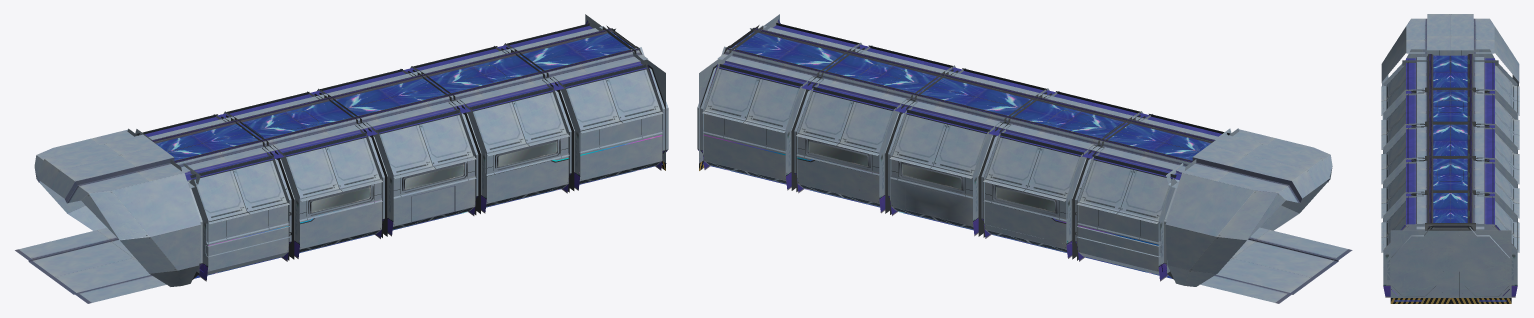
The model's file is plane_cabin__freefire.glb.
3 views of the same model, side by side, from view 1: azimuth 30°, elevation 25°; view 2: azimuth 150°, elevation 25°; view 3: azimuth 270°, elevation 25° (orthographic). The views are drawn at different scales.
Visible parts, largest first — view 1: PFB_Cabin_Winterlands_Ceiling_01_MAT_Cabin_Winterlands_01.00, PFB_Cabin_Winterlands_Ground_01_MAT_Cabin_Winterlands_01.001, PFB_Cabin_Winterlands_Glass_01; view 2: PFB_Cabin_Winterlands_Ceiling_01_MAT_Cabin_Winterlands_01.00, PFB_Cabin_Winterlands_Ground_01_MAT_Cabin_Winterlands_01.001, PFB_Cabin_Winterlands_Glass_01; view 3: PFB_Cabin_Winterlands_Ceiling_01_MAT_Cabin_Winterlands_01.00, PFB_Cabin_Winterlands_Ground_01_MAT_Cabin_Winterlands_01.001.
Boxes of the visible parts, x1,y1,x2,y2 form: PFB_Cabin_Winterlands_Ceiling_01_MAT_Cabin_Winterlands_01.00: (34, 14, 668, 286); PFB_Cabin_Winterlands_Ground_01_MAT_Cabin_Winterlands_01.001: (15, 108, 668, 303); PFB_Cabin_Winterlands_Glass_01: (310, 141, 557, 212); PFB_Cabin_Winterlands_Ceiling_01_MAT_Cabin_Winterlands_01.00: (697, 14, 1332, 286); PFB_Cabin_Winterlands_Ground_01_MAT_Cabin_Winterlands_01.001: (697, 107, 1352, 303); PFB_Cabin_Winterlands_Glass_01: (808, 140, 1055, 212); PFB_Cabin_Winterlands_Ceiling_01_MAT_Cabin_Winterlands_01.00: (1381, 14, 1519, 303); PFB_Cabin_Winterlands_Ground_01_MAT_Cabin_Winterlands_01.001: (1382, 84, 1518, 301).
Size of the model in its own units: 37.2 by 6.75 by 10.26.
Materials: 3 (3 with a texture image).
